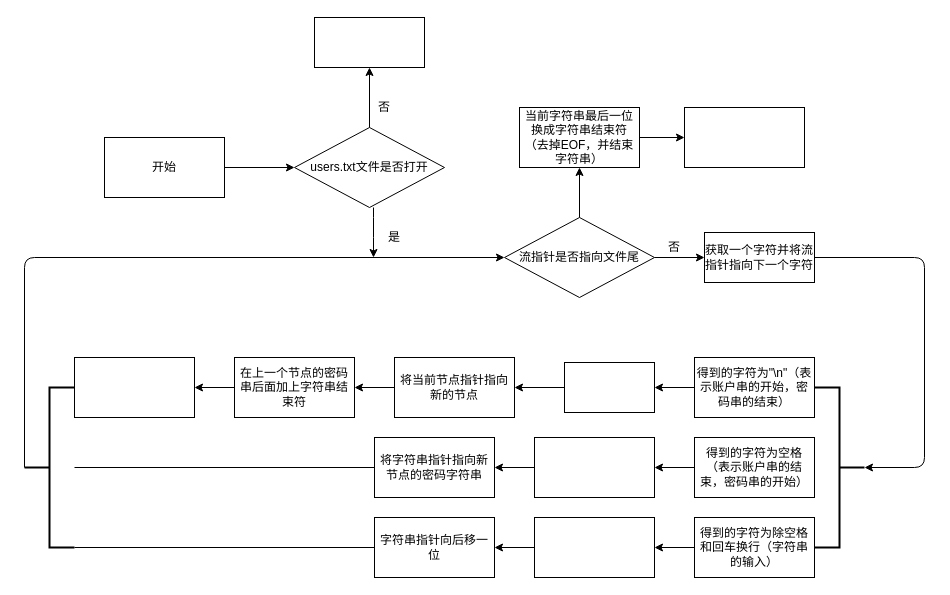
Image size: 950x595. Some labels were removed from this diagram. Each missing label, with the centre of its shape:
"在上一个节点的账号串后面加上字符串结束符" goes at [594,467].
"将字符串指针指向新节点的账号字符串" goes at [134,387].
"将读到的字符写入字符串" goes at [594,547].
"当前节点的next指针指向NULL。关闭文件" goes at [744,137].
"报错，并退出程序" goes at [369,42].
"申请一个链表节点的空间" goes at [609,387].
